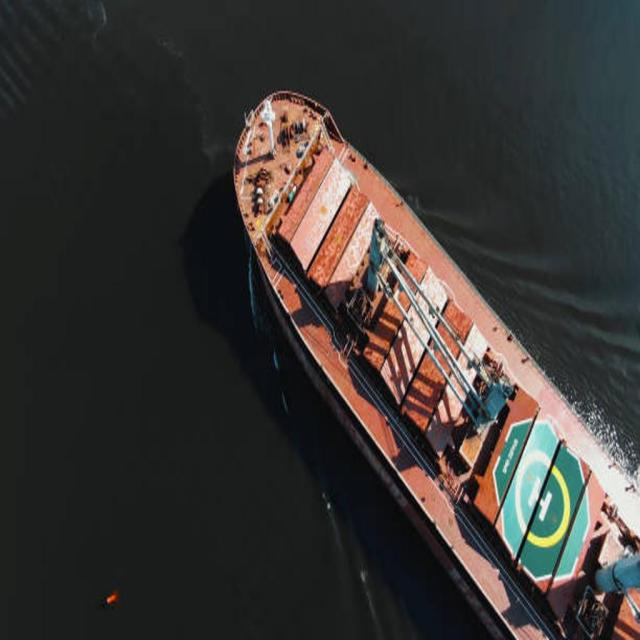helipad: (510, 448, 570, 548)
